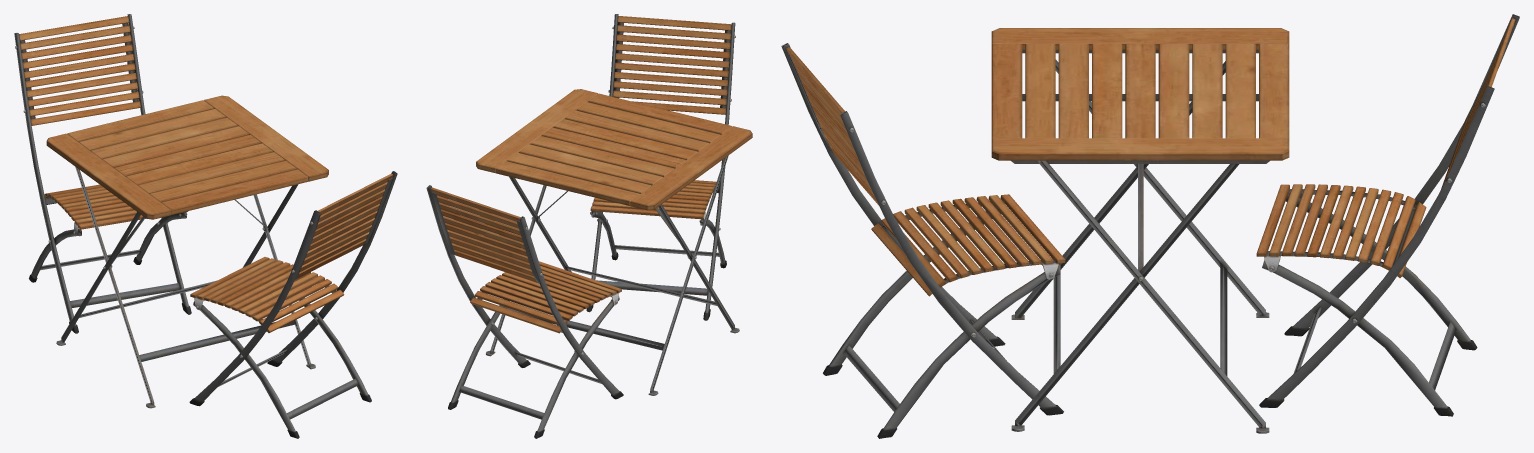
Rendered from outdoor-table-chair-set-01.glb.
The picture shows the model from 3 angles, left to right: view 1: azimuth 30°, elevation 25°; view 2: azimuth 150°, elevation 25°; view 3: azimuth 270°, elevation 25°; orthographic projection. The views are drawn at different scales.
Parts seen in each view (by area): view 1: outdoor_table_chair_set_01_table, outdoor_table_chair_set_01_chair_02, outdoor_table_chair_set_01_chair_01; view 2: outdoor_table_chair_set_01_table, outdoor_table_chair_set_01_chair_02, outdoor_table_chair_set_01_chair_01; view 3: outdoor_table_chair_set_01_table, outdoor_table_chair_set_01_chair_01, outdoor_table_chair_set_01_chair_02.
Boxes of the visible parts, <box> form: outdoor_table_chair_set_01_table: <box>46,95,328,408</box>; outdoor_table_chair_set_01_chair_02: <box>14,14,191,333</box>; outdoor_table_chair_set_01_chair_01: <box>189,171,397,438</box>; outdoor_table_chair_set_01_table: <box>476,89,752,395</box>; outdoor_table_chair_set_01_chair_02: <box>426,185,623,438</box>; outdoor_table_chair_set_01_chair_01: <box>586,14,735,320</box>; outdoor_table_chair_set_01_table: <box>991,28,1289,433</box>; outdoor_table_chair_set_01_chair_01: <box>781,43,1065,438</box>; outdoor_table_chair_set_01_chair_02: <box>1256,14,1519,416</box>.
Size of the model in its own units: 0.7417 by 0.8575 by 1.72.
Materials: 2 (2 with a texture image).
